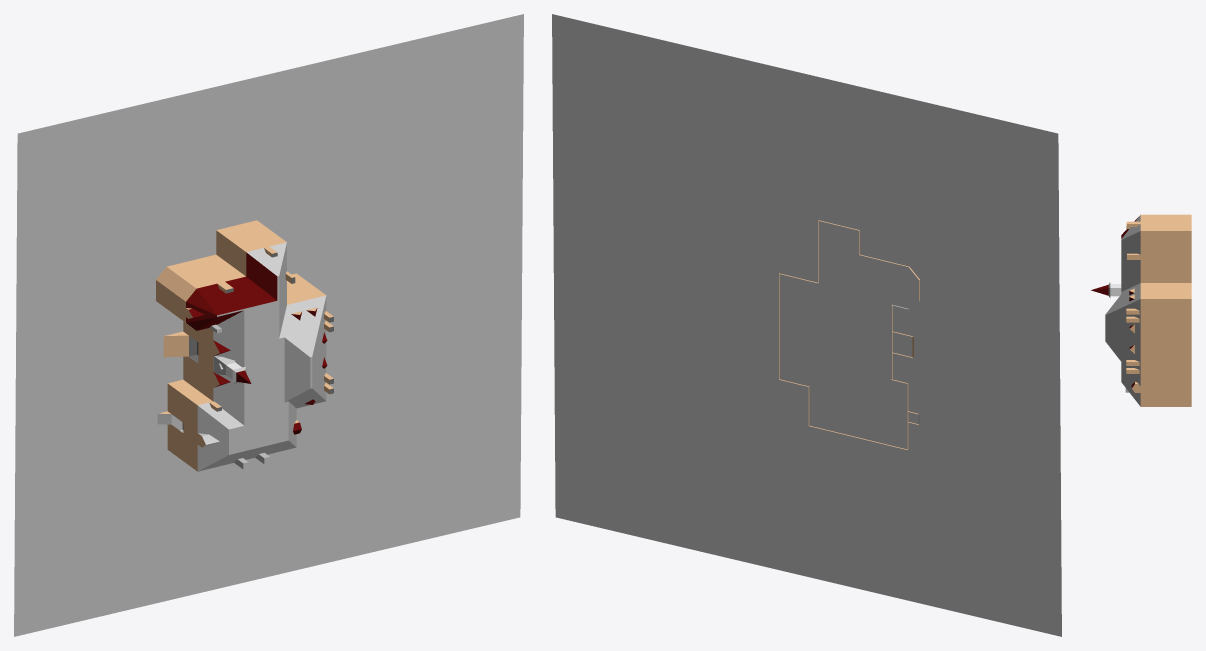
Rendered from library.gltf.
3 views of the same model, side by side, from view 1: azimuth 30°, elevation 25°; view 2: azimuth 150°, elevation 25°; view 3: azimuth 270°, elevation 25° (orthographic). The views are drawn at different scales.
Size of the model in its own units: 120 by 114 by 24.81.
